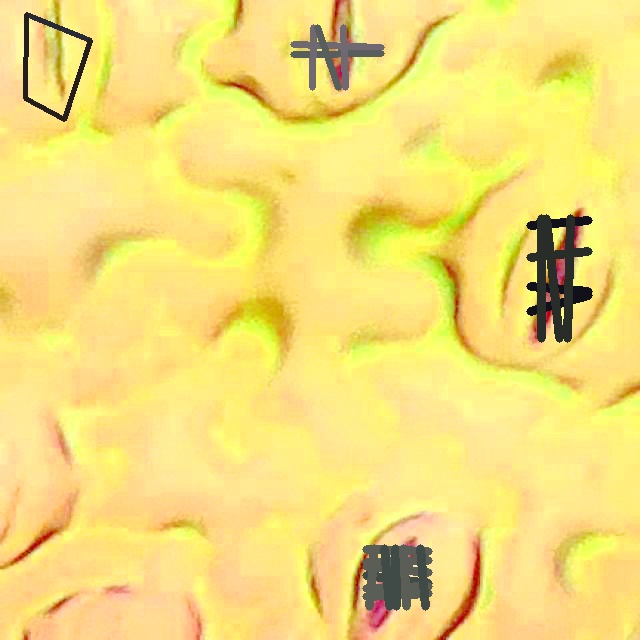open: (527, 215, 591, 342), (23, 12, 92, 121), (290, 24, 384, 90), (363, 544, 432, 609)
